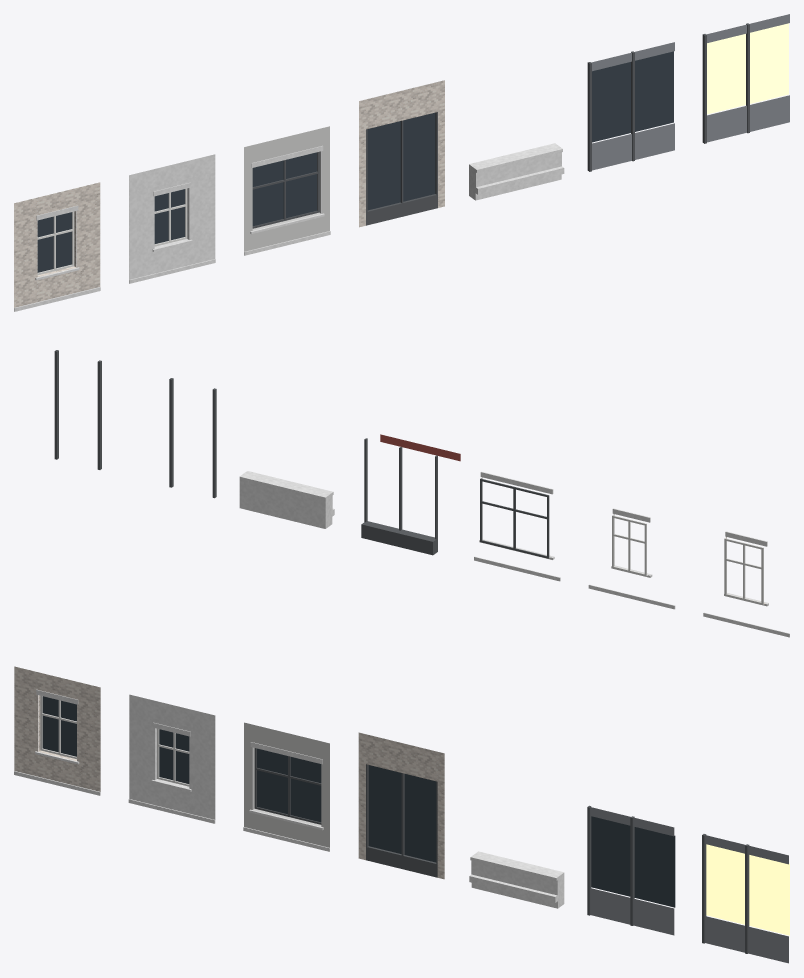
The model's file is facade_kit.glb.
The picture shows the model from 3 angles, top to bottom: view 1: azimuth 30°, elevation 25°; view 2: azimuth 150°, elevation 25°; view 3: azimuth 330°, elevation 25°; orthographic projection.
Visible parts, largest first — view 1: shop, bay_plaster, bay_brick, bay_tower_lit, bay_tower, bay_modern, cornice; view 2: cornice, shop, bay_modern, bay_brick, bay_plaster, bay_tower, bay_tower_lit; view 3: shop, bay_tower, bay_tower_lit, bay_plaster, bay_brick, bay_modern, cornice.
Part boxes in pixels (<box>): shop: <box>359,80,444,227</box>; bay_plaster: <box>129,154,215,283</box>; bay_brick: <box>14,182,100,311</box>; bay_tower_lit: <box>702,14,789,143</box>; bay_tower: <box>587,42,674,171</box>; bay_modern: <box>244,126,330,255</box>; cornice: <box>469,143,564,200</box>; cornice: <box>239,471,334,528</box>; shop: <box>361,434,460,555</box>; bay_modern: <box>474,471,560,581</box>; bay_brick: <box>703,531,789,637</box>; bay_plaster: <box>588,508,675,609</box>; bay_tower: <box>169,378,216,498</box>; bay_tower_lit: <box>54,350,101,469</box>; shop: <box>358,732,444,879</box>; bay_tower: <box>587,805,675,935</box>; bay_tower_lit: <box>702,834,789,963</box>; bay_plaster: <box>128,694,215,823</box>; bay_brick: <box>14,666,100,795</box>; bay_modern: <box>243,722,329,851</box>; cornice: <box>469,851,564,908</box>.
Bounding box in the file's own units: 27 × 4.2 × 1.4.
Materials: 10 (3 with a texture image).
